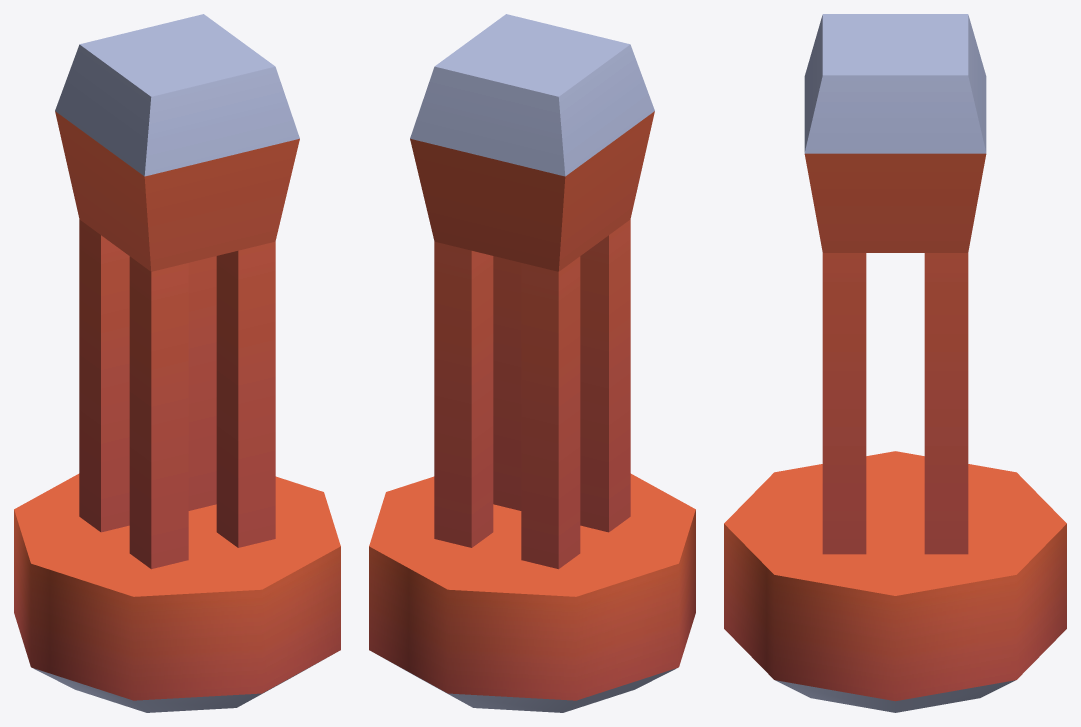
File: buoy.glb
3 renders of one model, left to right at view 1: azimuth 30°, elevation 25°; view 2: azimuth 150°, elevation 25°; view 3: azimuth 270°, elevation 25°, orthographic.
Visible parts, largest first — view 1: buoy; view 2: buoy; view 3: buoy.
Part boxes in pixels (bbox=[...]): buoy: bbox=[14, 14, 340, 712]; buoy: bbox=[369, 14, 695, 712]; buoy: bbox=[724, 14, 1066, 712].
Bounding box in the file's own units: 0.9283 × 1.84 × 0.9283.
1 material, 1 textured.
